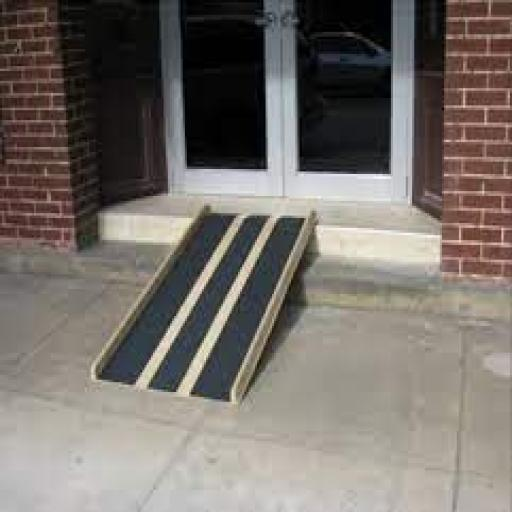ramp: (92, 196, 312, 407)
stairs: (315, 216, 441, 318), (64, 213, 174, 282)
